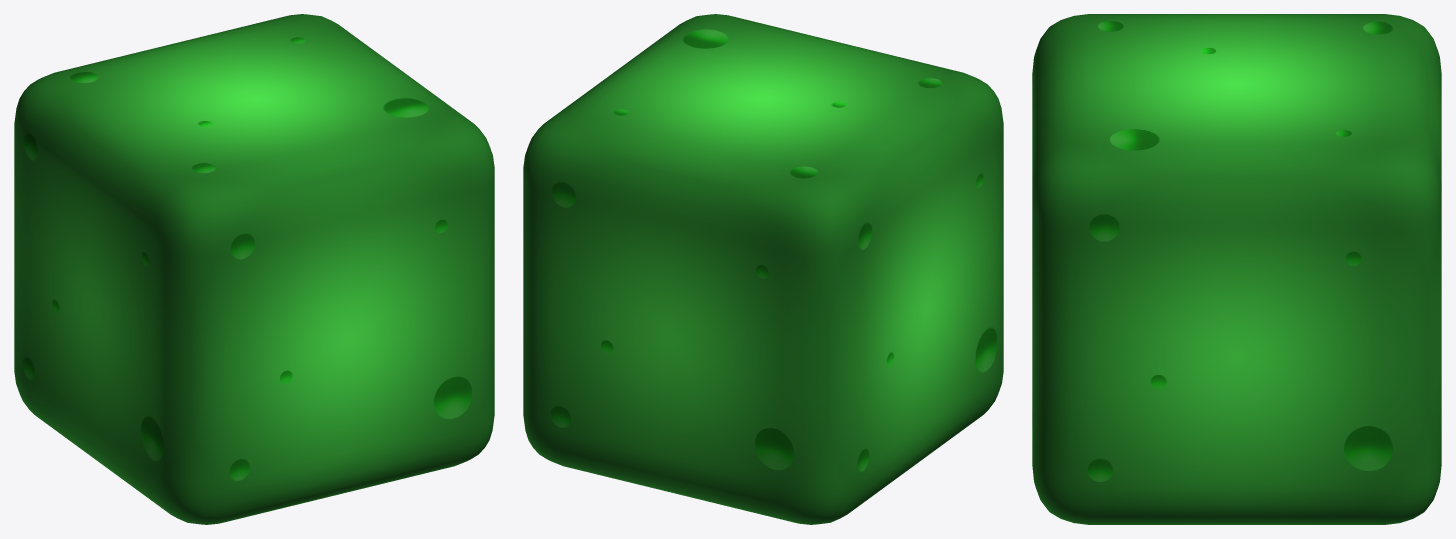
File: Player1_noAnim.FBX
The picture shows the model from 3 angles, left to right: view 1: azimuth 30°, elevation 25°; view 2: azimuth 150°, elevation 25°; view 3: azimuth 270°, elevation 25°; orthographic projection. The views are drawn at different scales.
Parts seen in each view (by area): view 1: Box001; view 2: Box001; view 3: Box001.
Boxes of the visible parts, x1,y1,x2,y2 form: Box001: (14, 14, 494, 524); Box001: (523, 14, 1003, 524); Box001: (1032, 14, 1441, 524).
Size of the model in its own units: 1 by 1 by 1.
1 material, 1 textured.
